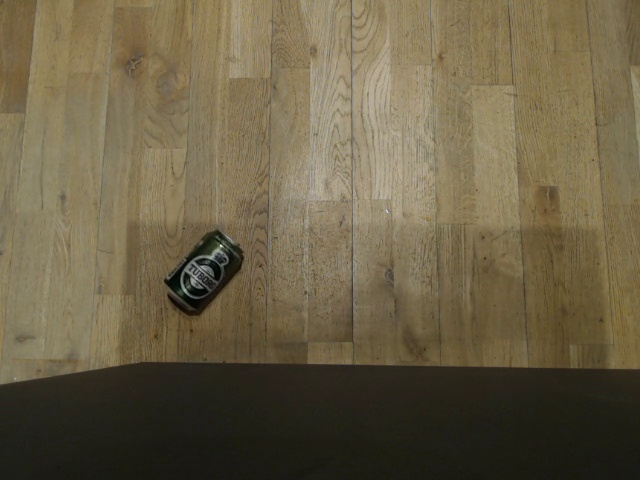beer: (157, 226, 244, 317)
